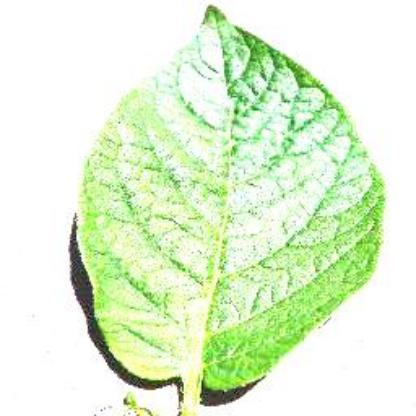Healthy-plant: (65, 7, 397, 403)
